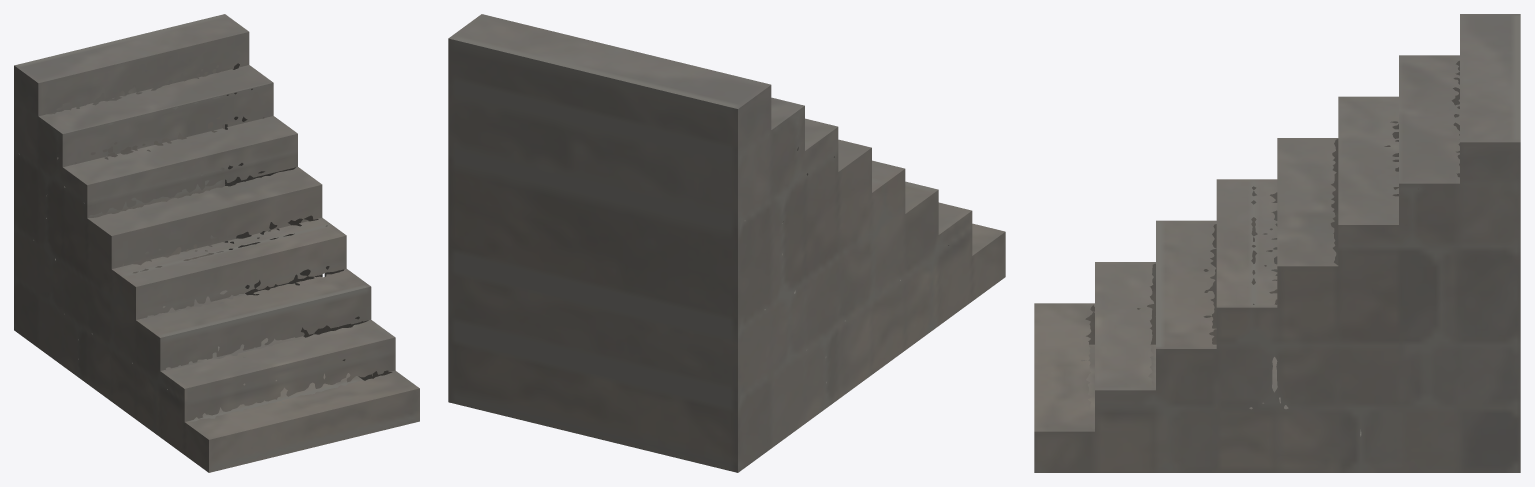
3 renders of one model, left to right at view 1: azimuth 30°, elevation 25°; view 2: azimuth 150°, elevation 25°; view 3: azimuth 270°, elevation 25°, orthographic. The views are drawn at different scales.
Parts seen in each view (by area): view 1: S18_Baked; view 2: S18_Baked; view 3: S18_Baked.
Part boxes in pixels (x1,y1,x2,y2): S18_Baked: [14, 14, 419, 472]; S18_Baked: [448, 14, 1005, 472]; S18_Baked: [1034, 14, 1520, 472].
Size of the model in its own units: 125 by 150 by 200.
